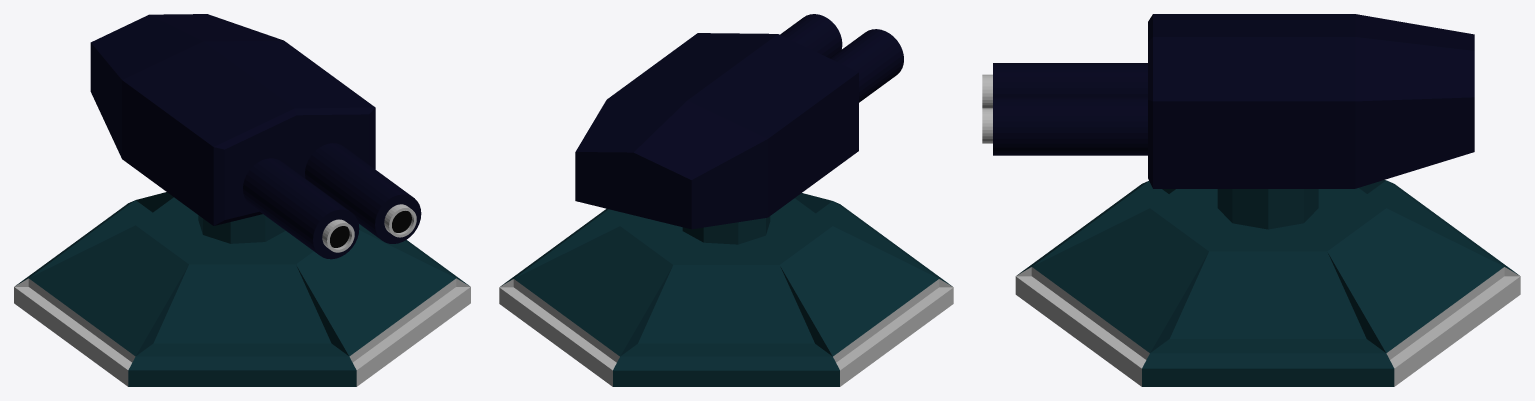
File: BasicTower1.fbx
3 renders of one model, left to right at view 1: azimuth 30°, elevation 25°; view 2: azimuth 150°, elevation 25°; view 3: azimuth 270°, elevation 25°, orthographic. The views are drawn at different scales.
Parts seen in each view (by area): view 1: Base, Cube.001, Cylinder; view 2: Base, Cube.001, Cylinder; view 3: Base, Cube.001, Cylinder.
Part boxes in pixels (x1,y1,x2,y2): Base: [14, 192, 470, 386]; Cube.001: [90, 14, 421, 259]; Cylinder: [198, 214, 285, 243]; Base: [499, 193, 953, 386]; Cube.001: [575, 14, 903, 229]; Cylinder: [682, 216, 770, 244]; Base: [1015, 180, 1520, 386]; Cube.001: [982, 14, 1474, 188]; Cylinder: [1217, 189, 1318, 229].
Bounding box in the file's own units: 173 × 113 × 213.
